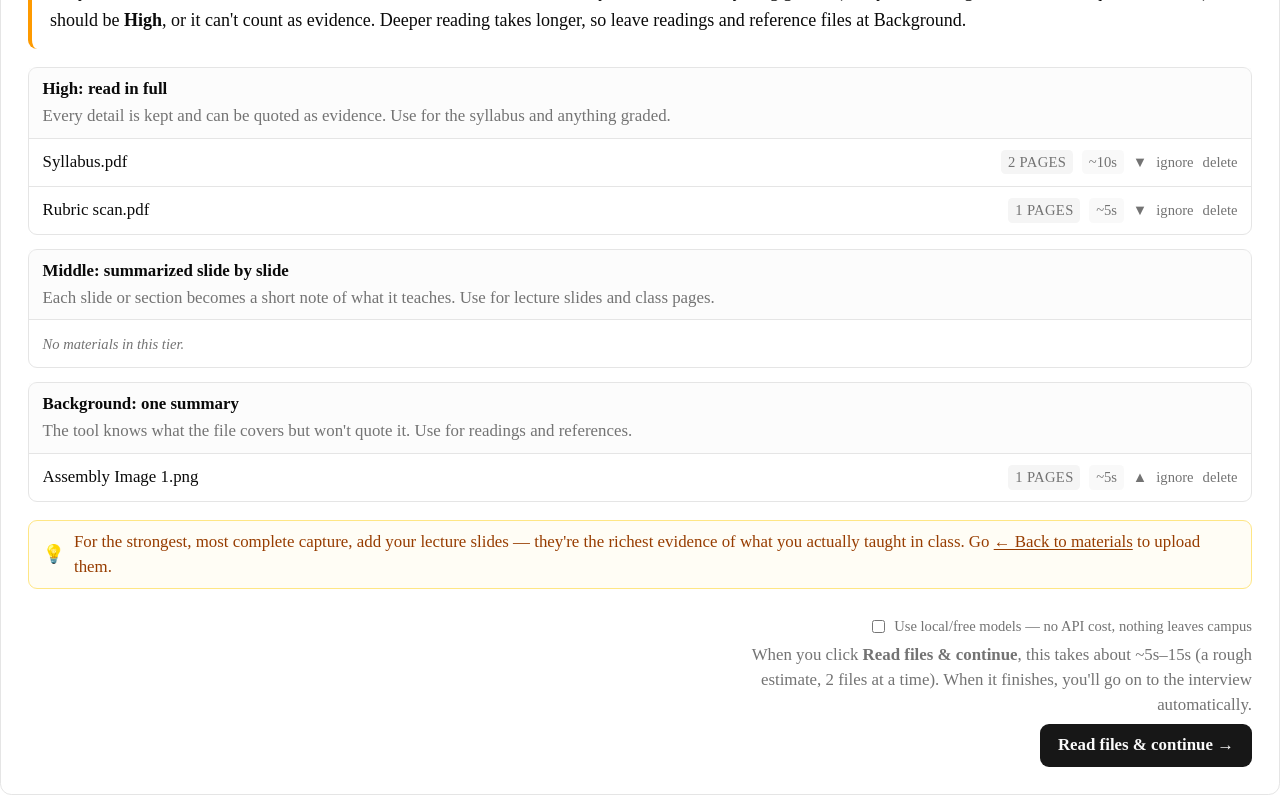
it: TriageStep completion gate › names each file that could not be read, with the reason
(page scrolled)
Click the button "Read files & continue →" at (1146, 746), box [1040,724,1252,767]
Wait 3000 ms
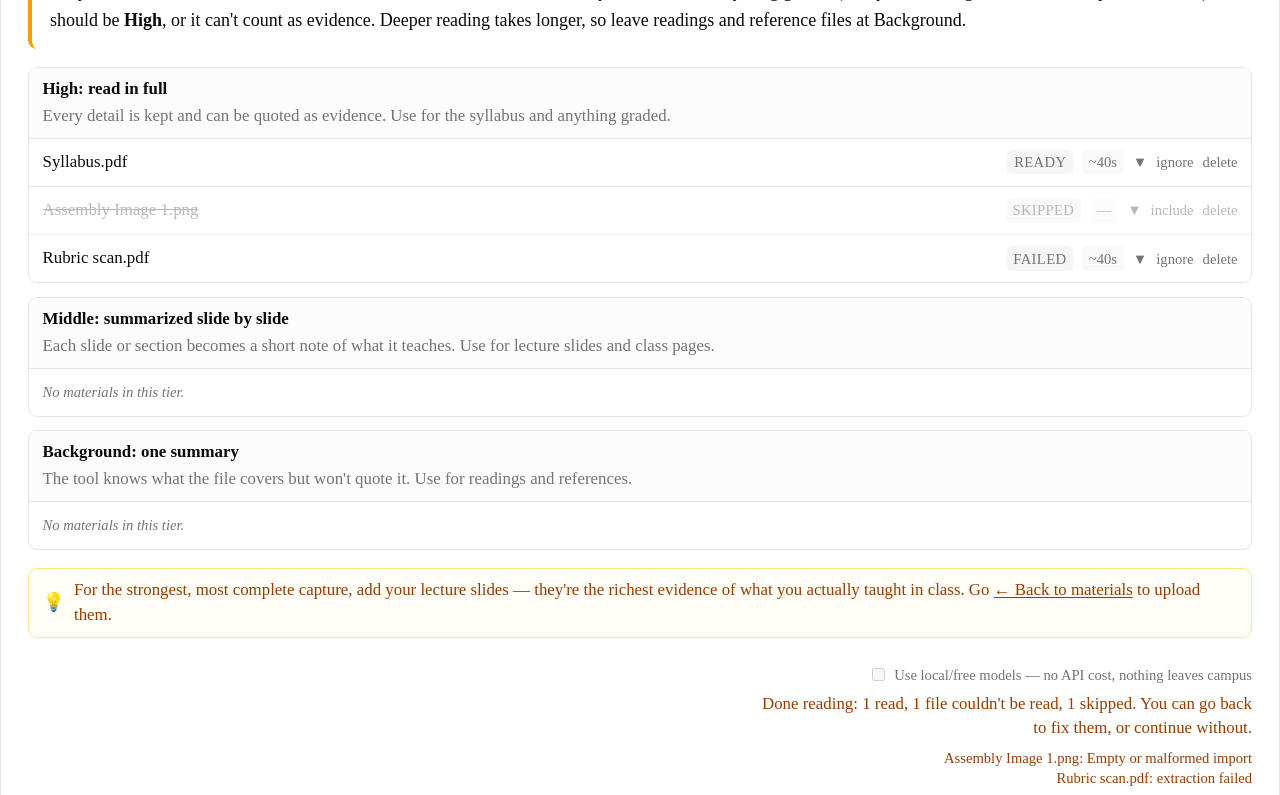
Check: the list with test id "unread-files" shows "Assembly Image 1.png", box [944,750,1079,766]
Check: the list with test id "unread-files" shows "Empty or malformed import", box [1087,750,1252,766]
Check: the list with test id "unread-files" shows "Rubric scan.pdf", box [1056,770,1149,786]
